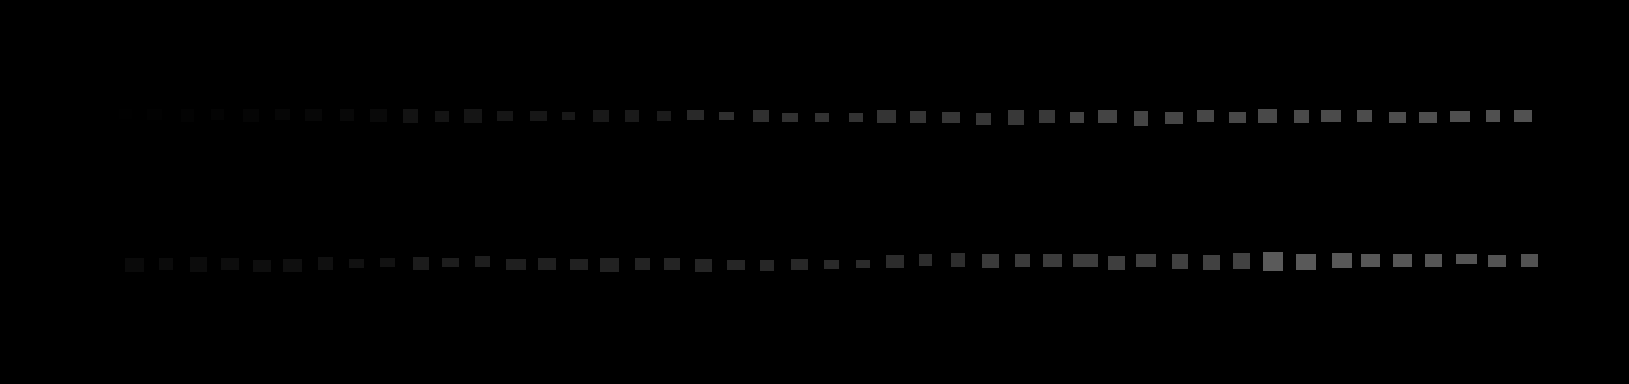light: (1263, 252, 1283, 271), (1296, 254, 1316, 270), (1073, 254, 1098, 267), (1332, 253, 1352, 268), (1258, 109, 1277, 124), (125, 258, 144, 272), (1136, 254, 1156, 267), (1233, 253, 1250, 269), (464, 109, 482, 124), (600, 258, 619, 272), (877, 110, 896, 124), (1098, 110, 1117, 124), (283, 259, 302, 272), (1321, 110, 1341, 122), (190, 257, 207, 272), (1008, 110, 1024, 125), (1172, 254, 1189, 269), (1203, 255, 1220, 270), (370, 109, 388, 122), (982, 254, 999, 268), (1043, 254, 1062, 267), (1514, 110, 1532, 122), (1393, 254, 1412, 267), (1361, 254, 1380, 267), (1450, 111, 1470, 122), (1109, 256, 1125, 270), (886, 255, 904, 268), (1197, 110, 1214, 122), (1165, 112, 1183, 124), (1488, 255, 1506, 267), (403, 109, 418, 124), (243, 109, 259, 122), (1039, 110, 1054, 124), (305, 109, 322, 121), (695, 259, 712, 272), (1521, 254, 1538, 267), (1425, 254, 1442, 267), (506, 259, 526, 270), (1456, 254, 1477, 264), (221, 258, 239, 270), (253, 260, 271, 272), (538, 258, 556, 270), (942, 112, 960, 124), (1419, 112, 1437, 124), (951, 253, 965, 267), (1134, 111, 1148, 126), (1294, 110, 1309, 124), (318, 257, 333, 270), (593, 110, 609, 122), (413, 257, 429, 270), (753, 110, 769, 122), (910, 111, 926, 124), (1357, 110, 1372, 122), (664, 258, 680, 270), (1229, 112, 1246, 124), (1389, 112, 1406, 124), (530, 111, 548, 121), (570, 259, 588, 270), (791, 259, 808, 270), (687, 110, 704, 120), (181, 109, 194, 122), (340, 109, 354, 121), (1015, 254, 1030, 267), (1486, 110, 1500, 122), (146, 109, 162, 120), (635, 258, 650, 270), (976, 113, 991, 125), (497, 111, 513, 121), (625, 110, 639, 122), (275, 109, 290, 120), (159, 258, 173, 270), (727, 260, 745, 270), (475, 256, 490, 267), (211, 109, 224, 120), (435, 111, 449, 122), (1070, 112, 1084, 124), (657, 111, 671, 121), (442, 258, 459, 267), (782, 113, 798, 122), (919, 254, 932, 266), (760, 260, 774, 271), (814, 113, 829, 122), (849, 113, 863, 122), (119, 109, 132, 119), (824, 260, 839, 269), (719, 112, 735, 120), (349, 259, 364, 268), (380, 258, 395, 267), (562, 112, 575, 120), (856, 260, 870, 268)
